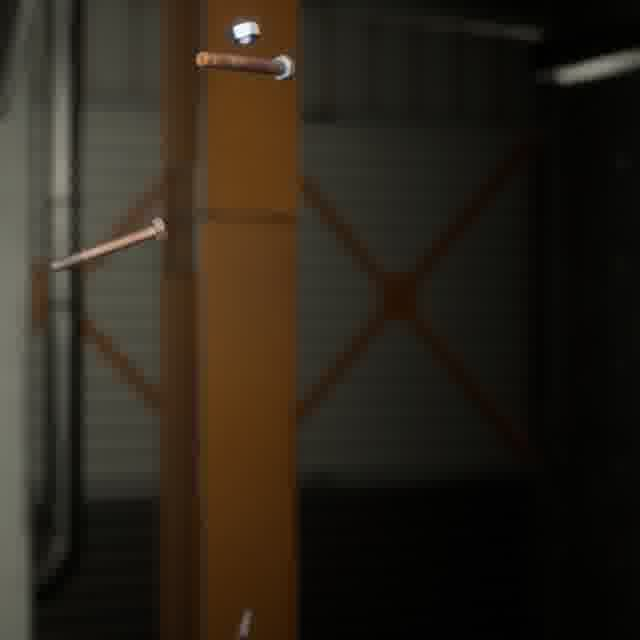bolt: (44, 211, 172, 277), (191, 47, 299, 86)
nut: (223, 18, 264, 50)
